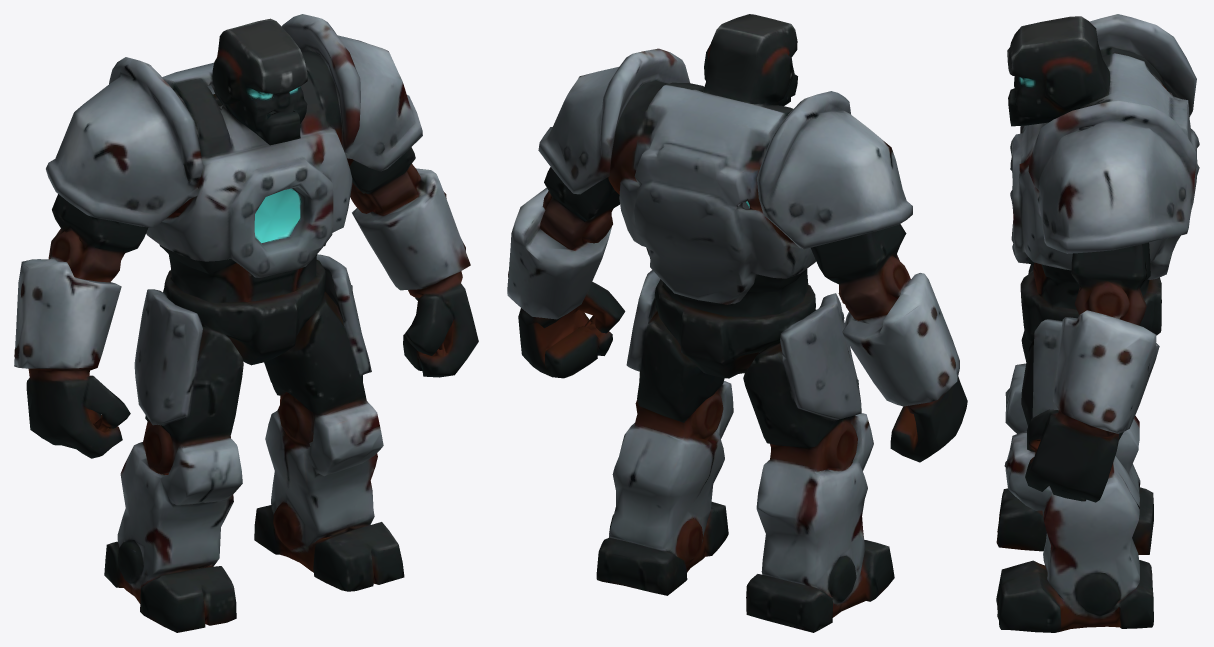
File: iron-golem.glb
3 views of the same model, side by side, from view 1: azimuth 30°, elevation 25°; view 2: azimuth 150°, elevation 25°; view 3: azimuth 270°, elevation 25° (orthographic).
Parts seen in each view (by area): view 1: world; view 2: world; view 3: world.
Boxes of the visible parts, box(x1,y1,x2,y2) form: world: box(14, 14, 478, 632); world: box(507, 14, 967, 632); world: box(996, 14, 1199, 632).
Size of the model in its own units: 0.845 by 1 by 0.338.
1 material, 1 textured.
